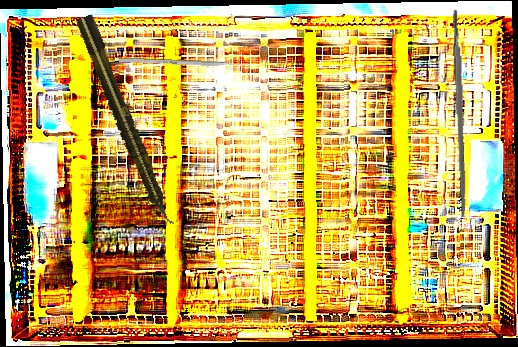Handpiece: (73, 13, 179, 230)
Pusher: (118, 57, 255, 68)
Scalpel Handle: (451, 9, 469, 218)
